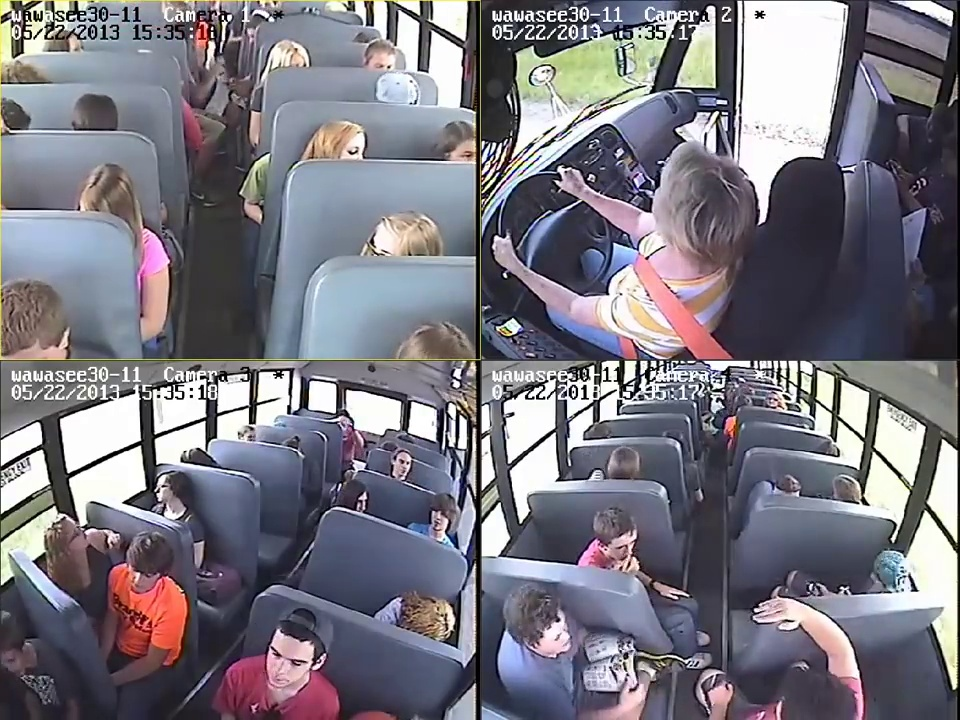face: (266, 640, 303, 688), (127, 561, 159, 592), (543, 623, 573, 656), (61, 520, 88, 554), (153, 472, 178, 500), (610, 534, 637, 557), (428, 509, 451, 533), (353, 484, 369, 510), (396, 451, 409, 480)
